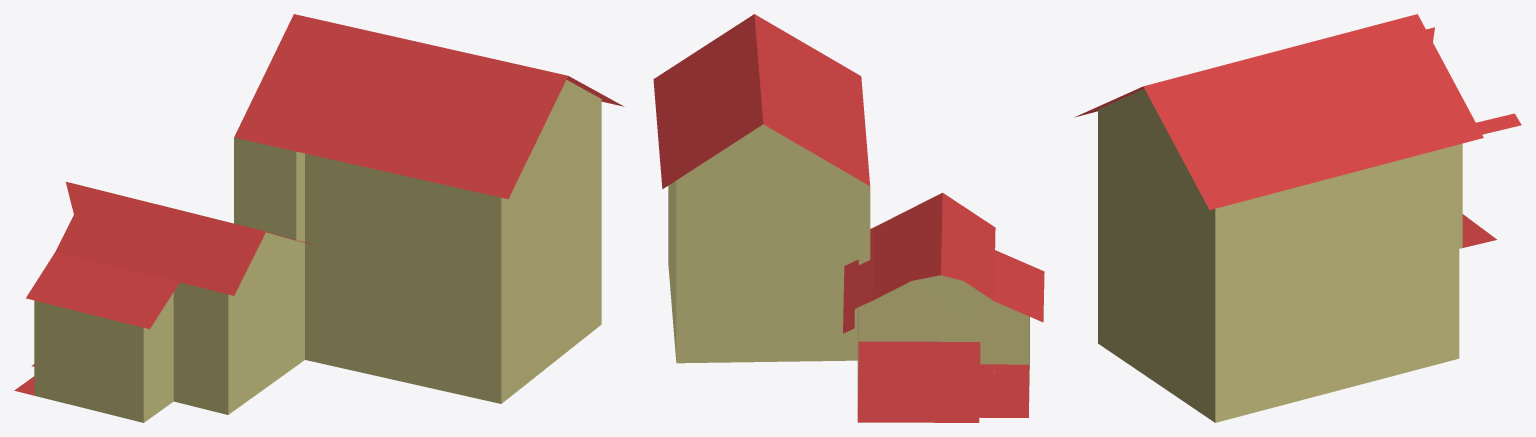
The picture shows the model from 3 angles, left to right: view 1: azimuth 30°, elevation 25°; view 2: azimuth 150°, elevation 25°; view 3: azimuth 270°, elevation 25°; orthographic projection. The views are drawn at different scales.
Bounding box in the file's own units: 26.73 × 18.78 × 13.96.
